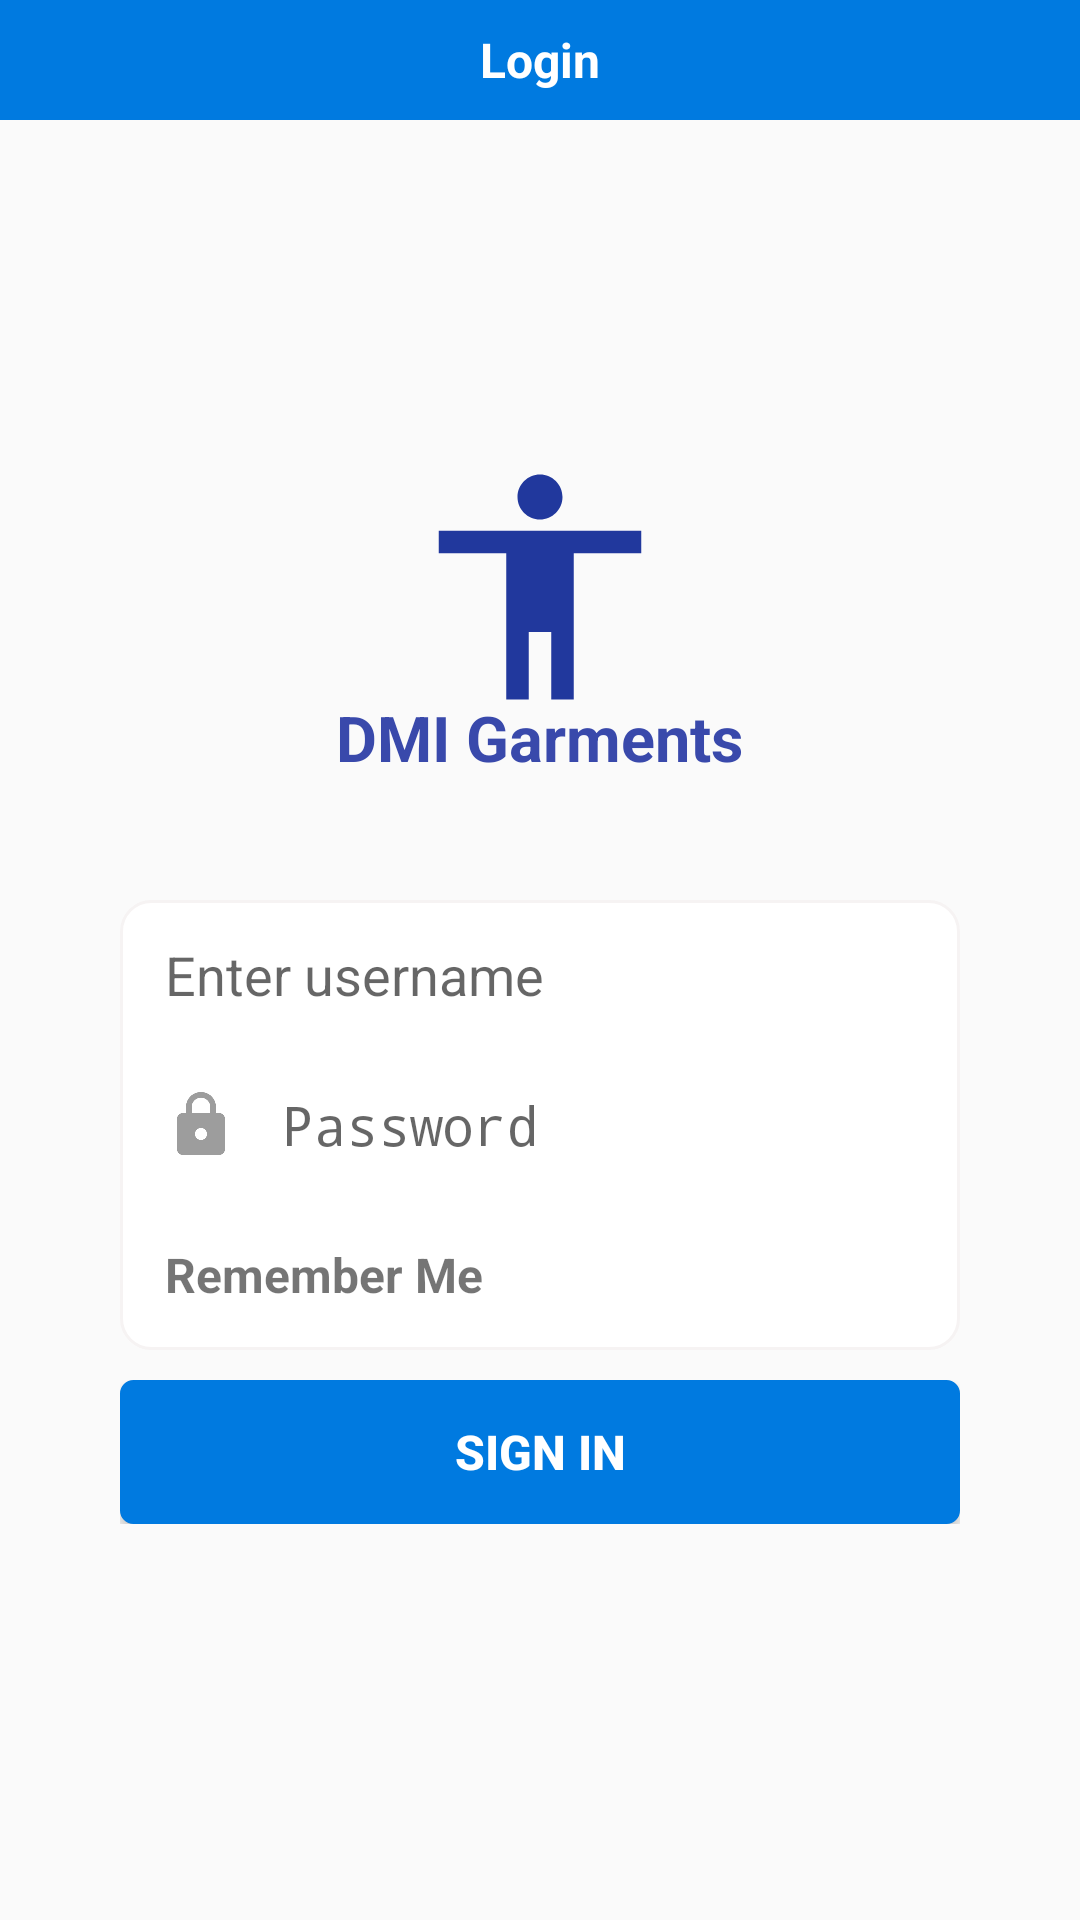

Icons on this 1080*1920 Android screen, each with the point to tap as point (x, y):
accessibility: point (540, 587)
